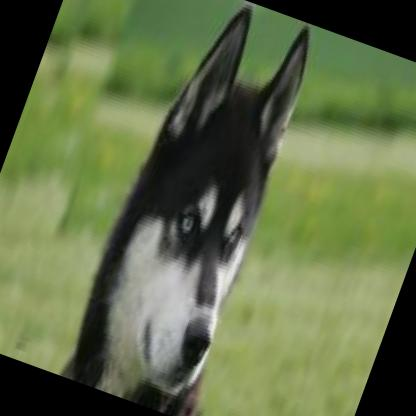Eskimo_dog: (59, 0, 341, 416)
